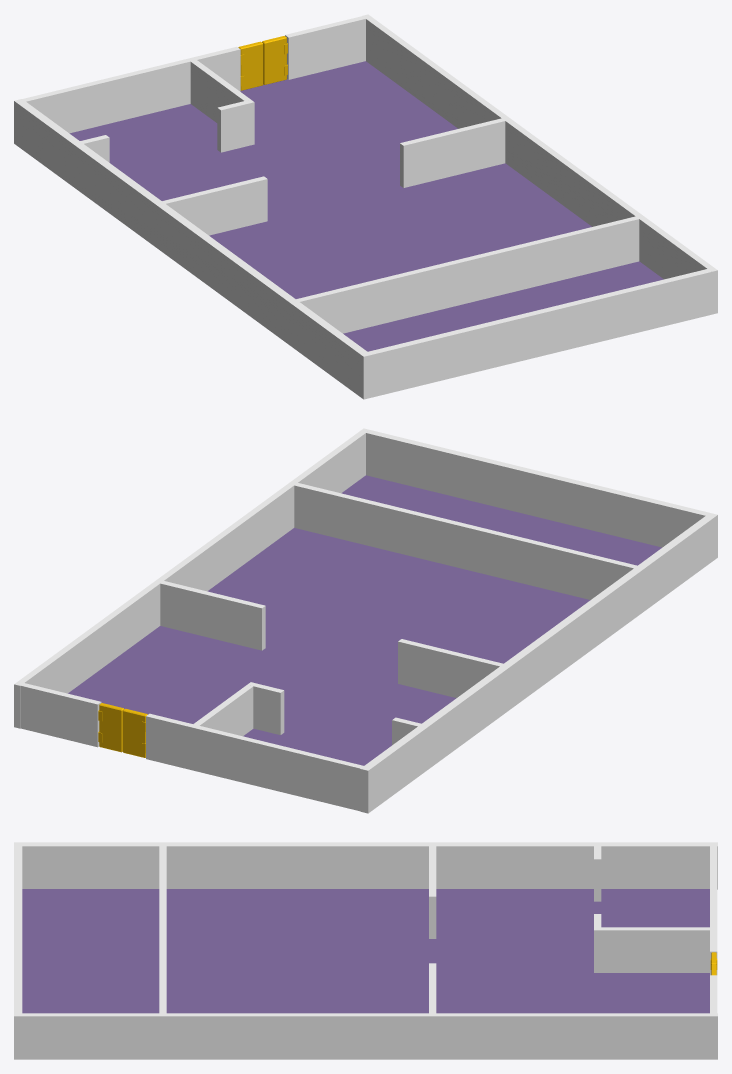
The model's file is maps_99.fbx.
The picture shows the model from 3 angles, top to bottom: view 1: azimuth 30°, elevation 25°; view 2: azimuth 150°, elevation 25°; view 3: azimuth 270°, elevation 25°; orthographic projection.
Visible parts, largest first — view 1: wall_01_08_geo, wall_01_07_geo, wall_01_05_geo, wall_01_09_geo4, wall_01_06_geo, wall_01_09_geo, wall_01_09_geo3, wall_01_09_geo2, wall_01_09_geo1, wall_01_09_geo7, wall_01_09_geo6, polySurface161 (+1 smaller); view 2: wall_01_08_geo, wall_01_07_geo, wall_01_05_geo, wall_01_09_geo4, wall_01_06_geo, wall_01_09_geo, wall_01_09_geo3, wall_01_09_geo2, wall_01_09_geo1, wall_01_09_geo7, wall_01_09_geo6, polySurface161 (+1 smaller); view 3: wall_01_08_geo, wall_01_06_geo, wall_01_07_geo, wall_01_09_geo7, wall_01_05_geo, wall_01_09_geo4, wall_01_09_geo, wall_01_09_geo2, wall_01_09_geo6, wall_01_09_geo5, wall_01_09_geo3.
Part boxes in pixels (bbox=[...]): wall_01_08_geo: bbox=[69, 61, 663, 351]; wall_01_07_geo: bbox=[14, 99, 371, 399]; wall_01_05_geo: bbox=[368, 269, 711, 397]; wall_01_09_geo4: bbox=[296, 216, 639, 333]; wall_01_06_geo: bbox=[362, 14, 717, 314]; wall_01_09_geo: bbox=[22, 46, 240, 133]; wall_01_09_geo3: bbox=[400, 118, 505, 187]; wall_01_09_geo2: bbox=[162, 176, 267, 235]; wall_01_09_geo1: bbox=[285, 16, 365, 79]; wall_01_09_geo7: bbox=[190, 60, 250, 122]; wall_01_09_geo6: bbox=[217, 99, 254, 152]; polySurface161: bbox=[262, 36, 287, 84]; wall_01_08_geo: bbox=[68, 475, 661, 765]; wall_01_07_geo: bbox=[360, 513, 717, 813]; wall_01_05_geo: bbox=[366, 430, 709, 547]; wall_01_09_geo4: bbox=[294, 483, 637, 599]; wall_01_06_geo: bbox=[14, 428, 369, 728]; wall_01_09_geo: bbox=[146, 713, 363, 811]; wall_01_09_geo3: bbox=[160, 581, 265, 650]; wall_01_09_geo2: bbox=[398, 639, 503, 697]; wall_01_09_geo1: bbox=[20, 683, 101, 747]; wall_01_09_geo7: bbox=[193, 685, 253, 736]; wall_01_09_geo6: bbox=[247, 682, 284, 734]; polySurface161: bbox=[98, 703, 124, 752]; wall_01_08_geo: bbox=[22, 889, 709, 1013]; wall_01_06_geo: bbox=[14, 1013, 717, 1059]; wall_01_07_geo: bbox=[14, 842, 717, 889]; wall_01_09_geo7: bbox=[601, 927, 710, 972]; wall_01_05_geo: bbox=[14, 846, 22, 1013]; wall_01_09_geo4: bbox=[159, 846, 166, 1013]; wall_01_09_geo: bbox=[710, 846, 717, 975]; wall_01_09_geo2: bbox=[429, 846, 436, 938]; wall_01_09_geo6: bbox=[594, 914, 601, 972]; wall_01_09_geo5: bbox=[594, 846, 601, 901]; wall_01_09_geo3: bbox=[429, 963, 436, 1013].
Bounding box in the file's own units: 76.85 × 8.89 × 131.
Materials: 2 (2 with a texture image).
